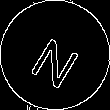N_NE: (25, 23, 85, 87)
